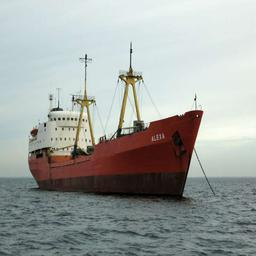Ship: (28, 59, 205, 199)
